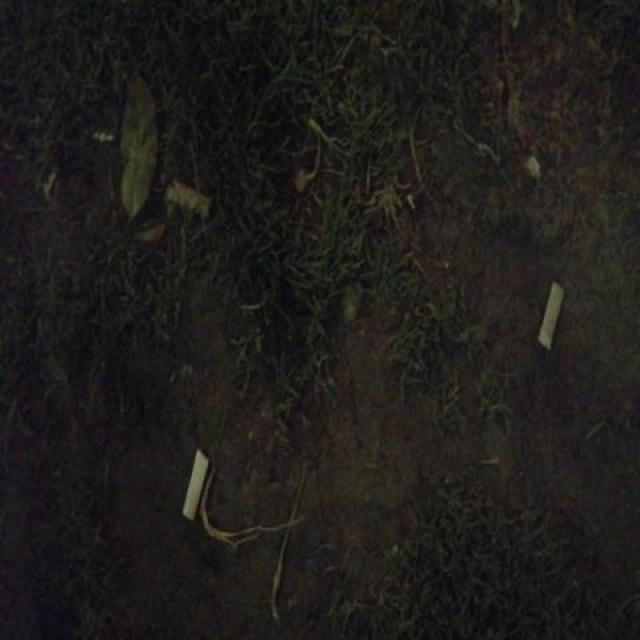non-organic waste: (158, 173, 217, 223), (178, 443, 214, 524), (535, 276, 568, 353)
